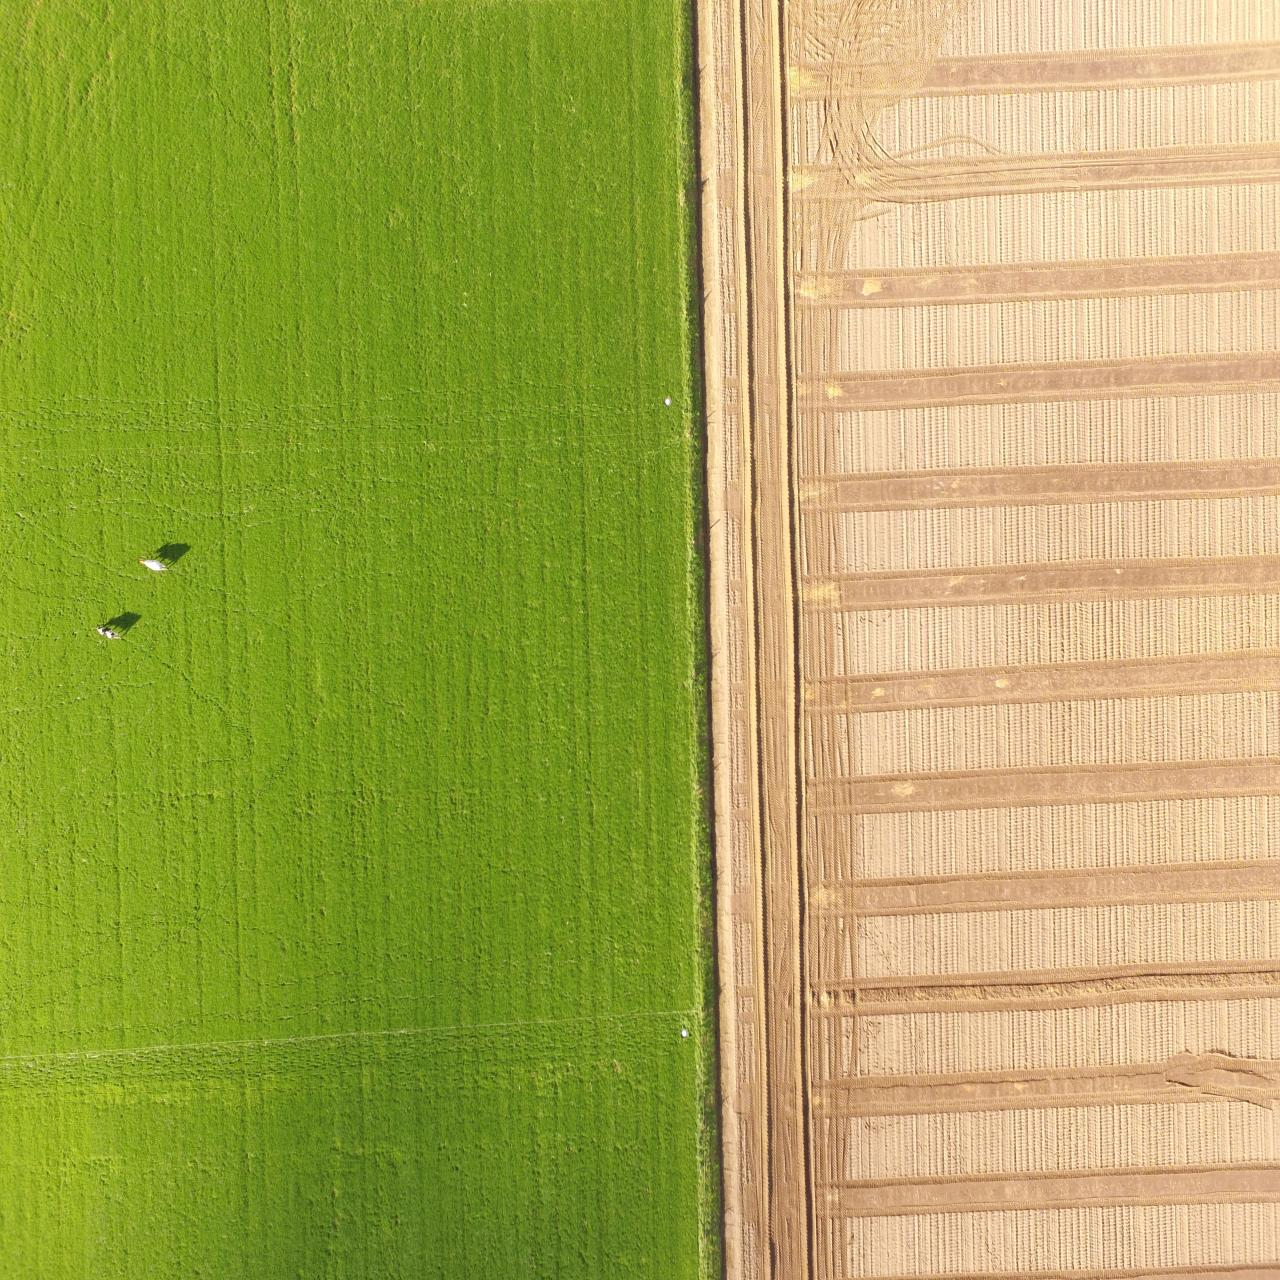cow: (95, 624, 124, 641), (138, 557, 169, 572)
